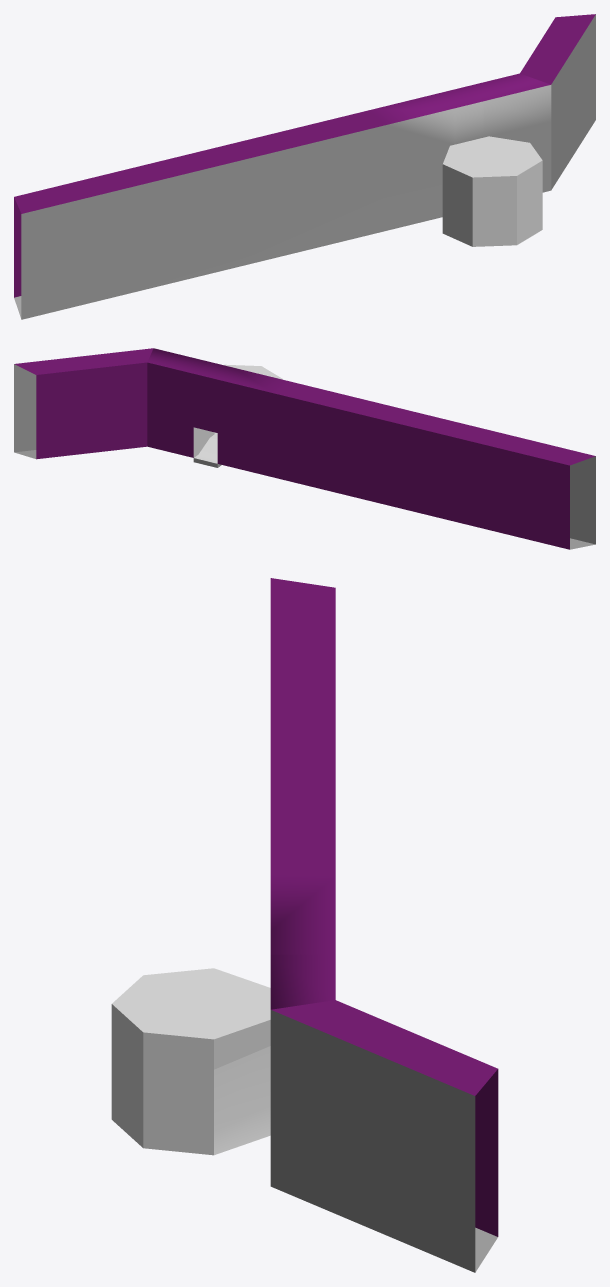
Rendered from southwall.fbx.
3 renders of one model, top to bottom at view 1: azimuth 30°, elevation 25°; view 2: azimuth 150°, elevation 25°; view 3: azimuth 270°, elevation 25°, orthographic. The views are drawn at different scales.
Parts seen in each view (by area): view 1: South_wall_and_spawn; view 2: South_wall_and_spawn; view 3: South_wall_and_spawn.
Part boxes in pixels (bbox=[...]): South_wall_and_spawn: bbox=[14, 14, 595, 319]; South_wall_and_spawn: bbox=[14, 348, 595, 549]; South_wall_and_spawn: bbox=[111, 578, 498, 1272].
Bounding box in the file's own units: 132 × 21 × 41.59.
